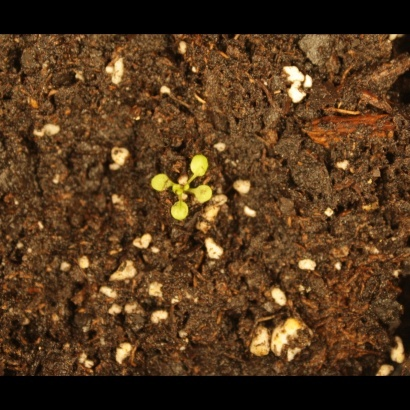leaf: (147, 169, 173, 194), (190, 153, 213, 178), (192, 183, 216, 206), (168, 199, 191, 222)
